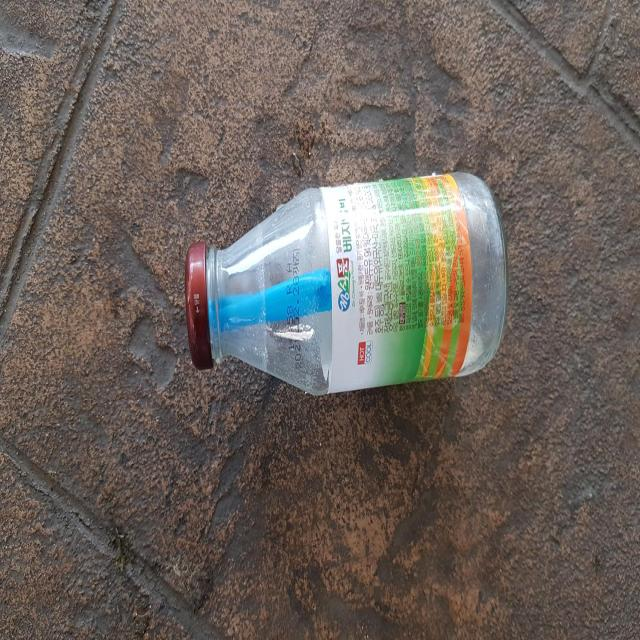glass: (185, 172, 508, 394)
